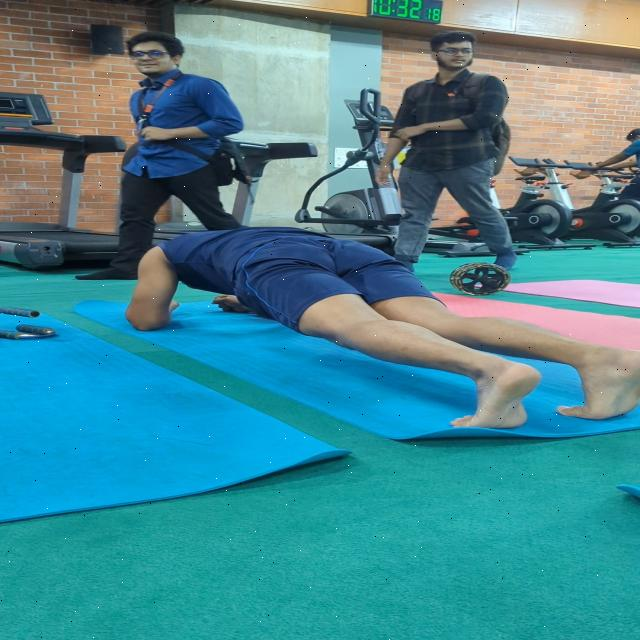Normal_Plunk: (100, 204, 640, 434)
